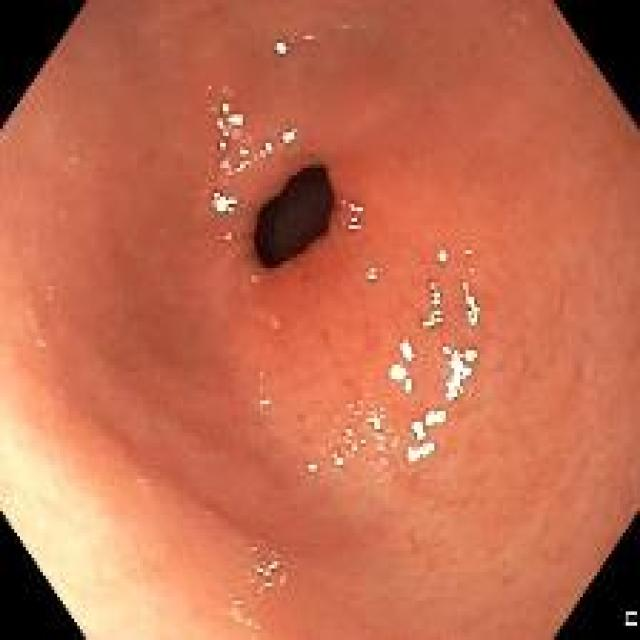contrast: (252, 163, 335, 269)
saturation: (1, 388, 191, 637)
specularity: (442, 345, 472, 400), (461, 282, 481, 324), (210, 190, 237, 216), (404, 440, 434, 463), (343, 426, 365, 450), (419, 311, 444, 329), (387, 360, 407, 382), (255, 559, 278, 578), (219, 160, 246, 174), (400, 339, 415, 364), (424, 409, 446, 426), (429, 282, 441, 306), (215, 120, 230, 139), (411, 419, 425, 439), (281, 128, 295, 145), (462, 349, 478, 363), (274, 40, 288, 56), (372, 409, 382, 431), (365, 263, 376, 282), (347, 215, 358, 233), (304, 462, 319, 475), (261, 139, 274, 154), (402, 376, 413, 393), (225, 114, 244, 123), (237, 144, 249, 158), (216, 140, 229, 151), (333, 456, 345, 467), (259, 396, 271, 407), (348, 203, 363, 211), (220, 101, 230, 113), (438, 249, 448, 260), (223, 230, 232, 241), (264, 583, 275, 592), (392, 435, 399, 445)
